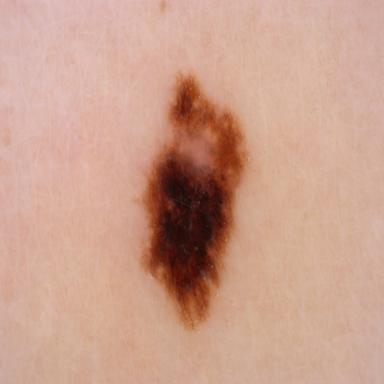nevus: (140, 72, 246, 330)
